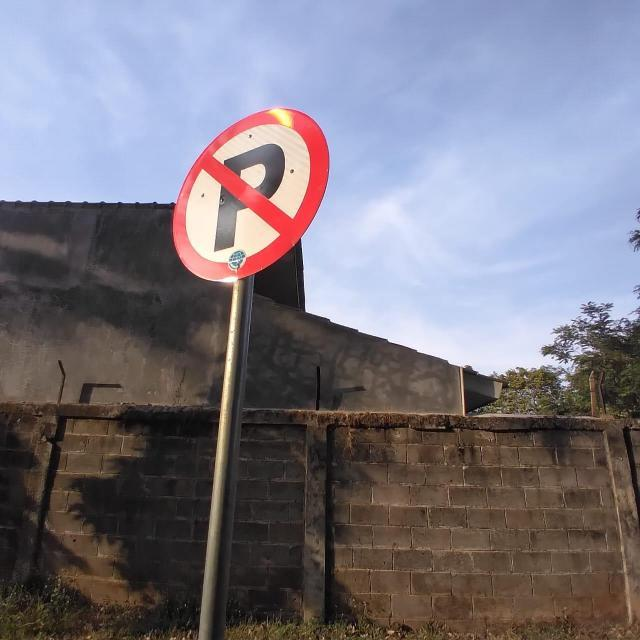traffic sign: (170, 107, 328, 282)
